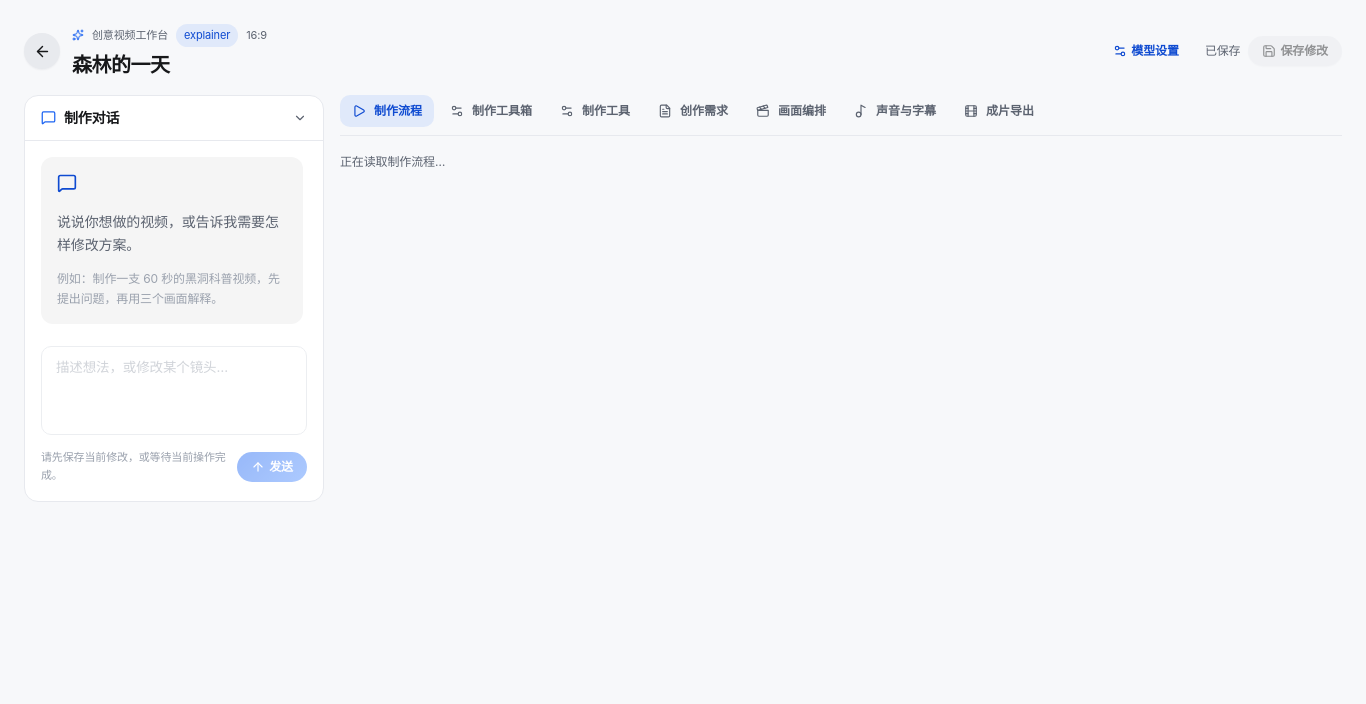
Test: CreativeWorkbenchPage › generates the chosen shot only after approval and reports real API errors
This screenshot has width=1366, height=704.
Click the tab "创作需求" at x=693, y=111, box x1=646 y1=95 x2=740 y2=127
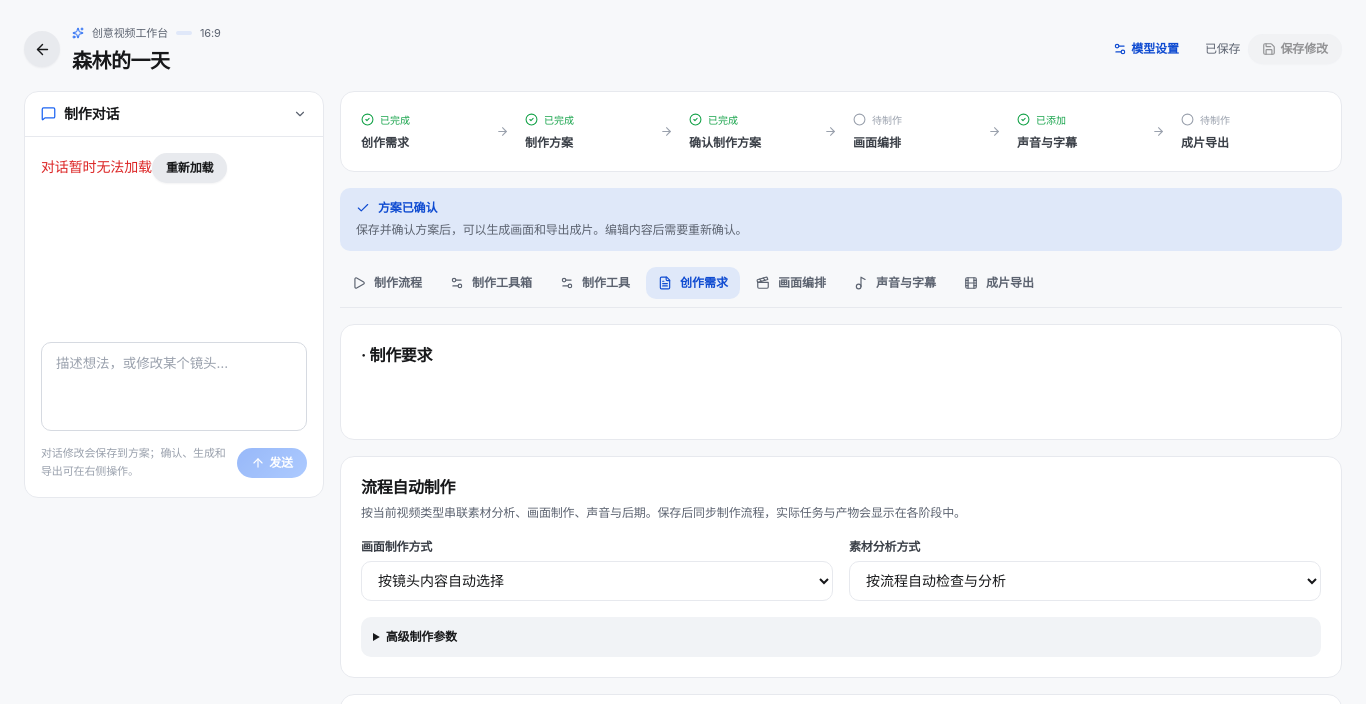
Click the tab "画面编排" at x=791, y=283, box x1=744 y1=267 x2=838 y2=299
(page scrolled)
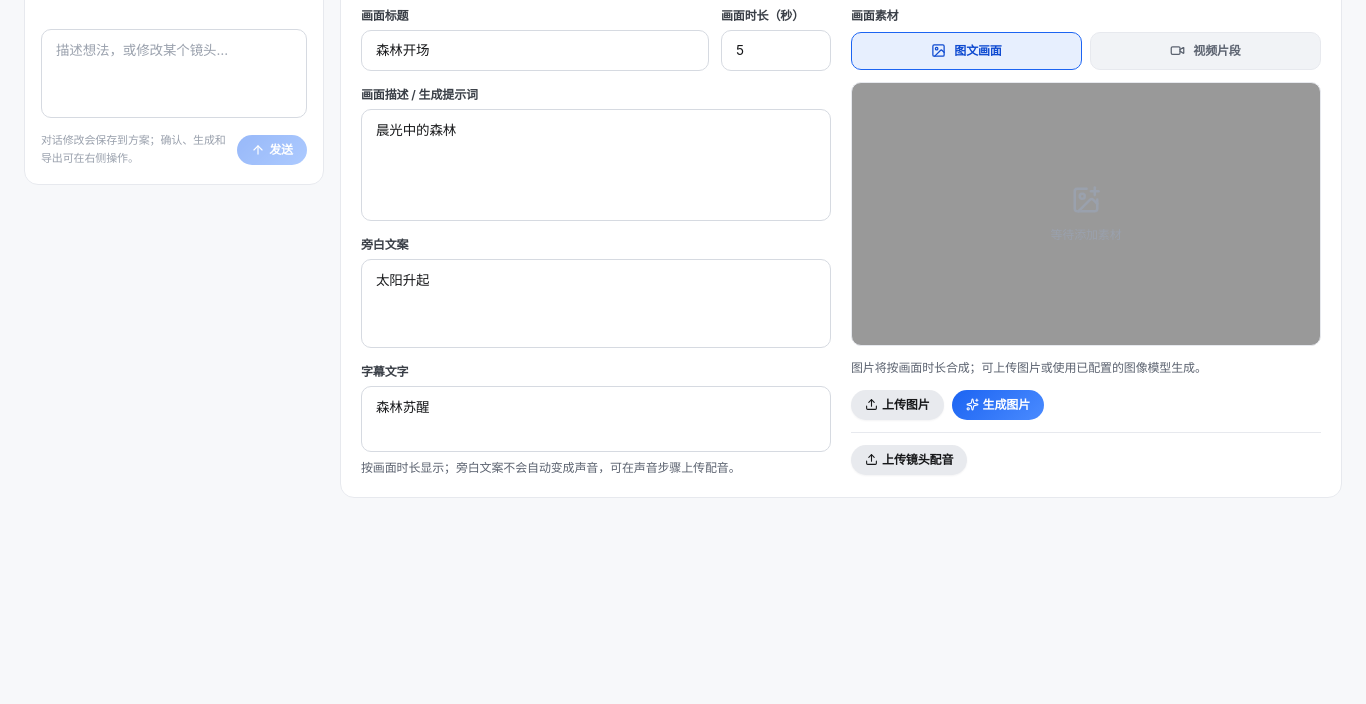
Click the button "生成图片" at x=998, y=405, box x1=952 y1=390 x2=1044 y2=420
(page scrolled)
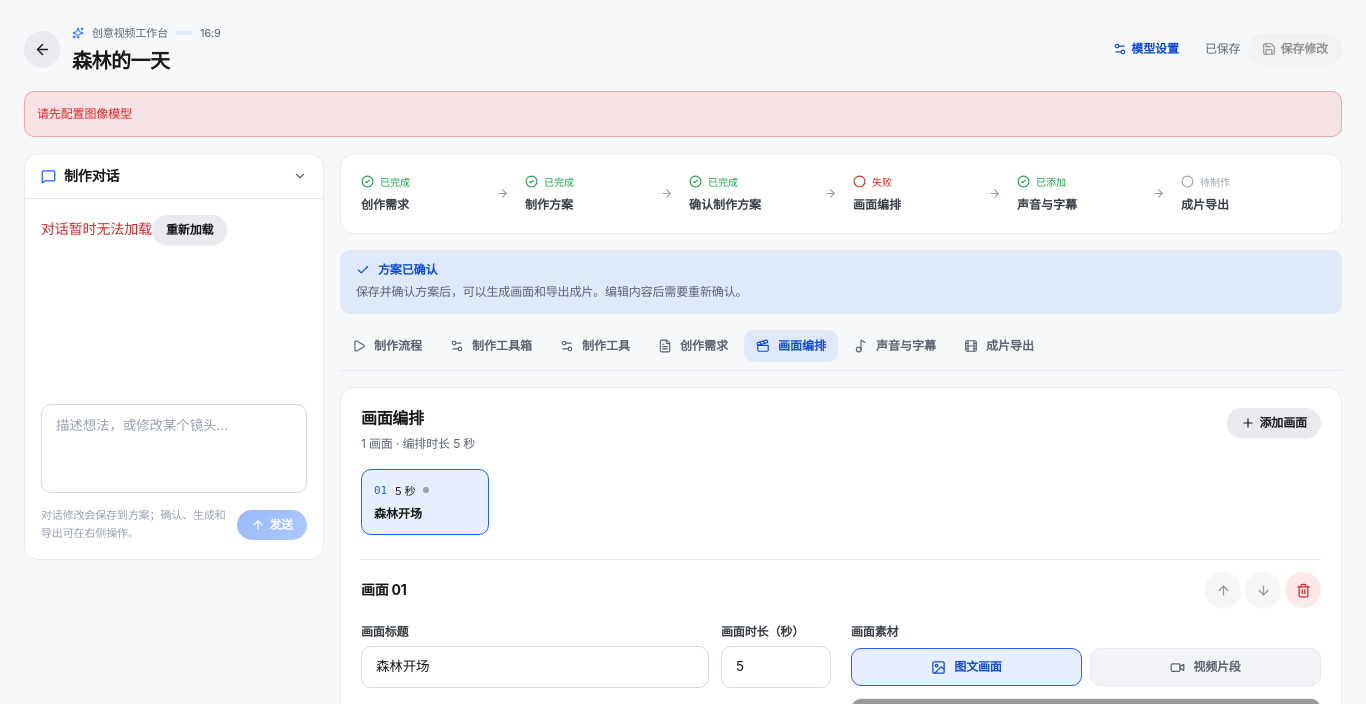
expect the text "请先配置图像模型" is shown: met, box x1=37 y1=106 x2=132 y2=121
